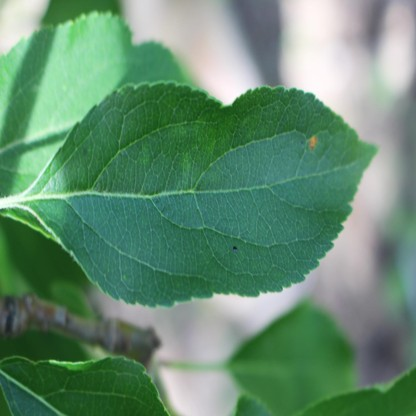rust: (311, 135, 317, 147)
